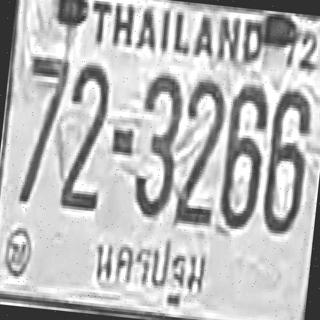N02: (173, 74, 227, 225), (58, 58, 110, 209)
N03: (130, 68, 184, 216)
N06: (260, 84, 312, 233), (216, 80, 268, 228)
N07: (15, 52, 69, 203)
P28: (87, 229, 211, 314)
